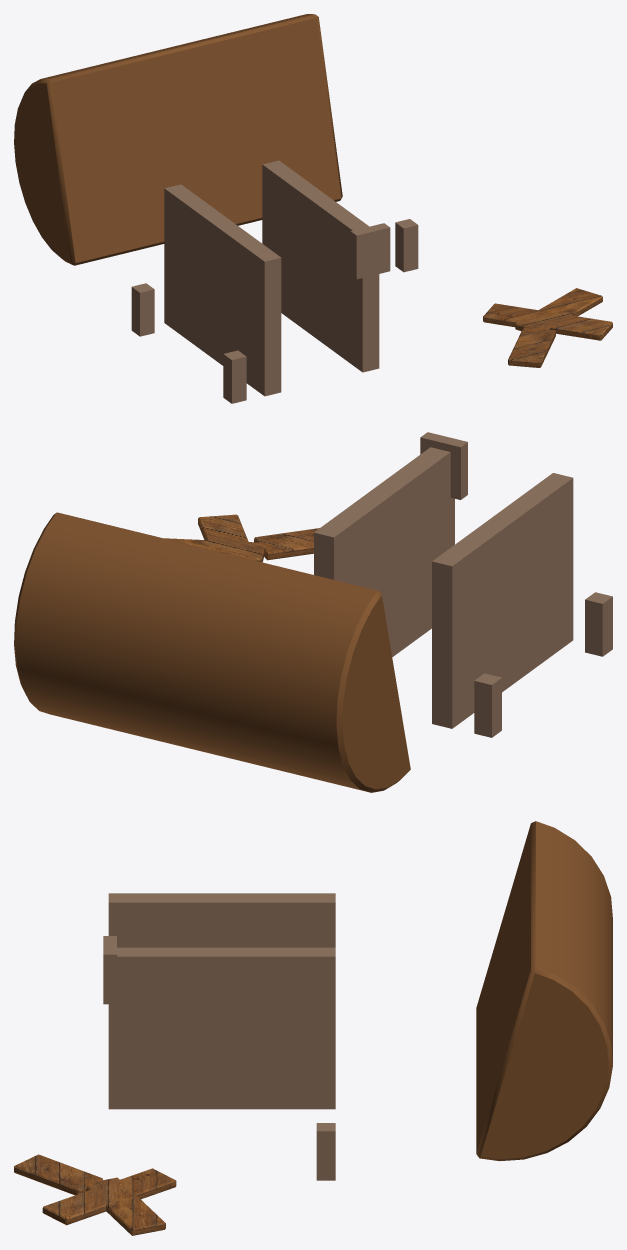
File: broken-chest-v01.glb
3 views of the same model, one above another, from view 1: azimuth 30°, elevation 25°; view 2: azimuth 150°, elevation 25°; view 3: azimuth 270°, elevation 25° (orthographic). The views are drawn at different scales.
Parts seen in each view (by area): view 1: broken-chest; view 2: broken-chest; view 3: broken-chest.
Boxes of the visible parts, x1,y1,x2,y2 form: broken-chest: (14, 14, 612, 403); broken-chest: (14, 432, 612, 792); broken-chest: (14, 821, 612, 1235).
Bounding box in the file's own units: 1.82 × 0.8481 × 2.19.
2 materials, 1 textured.
